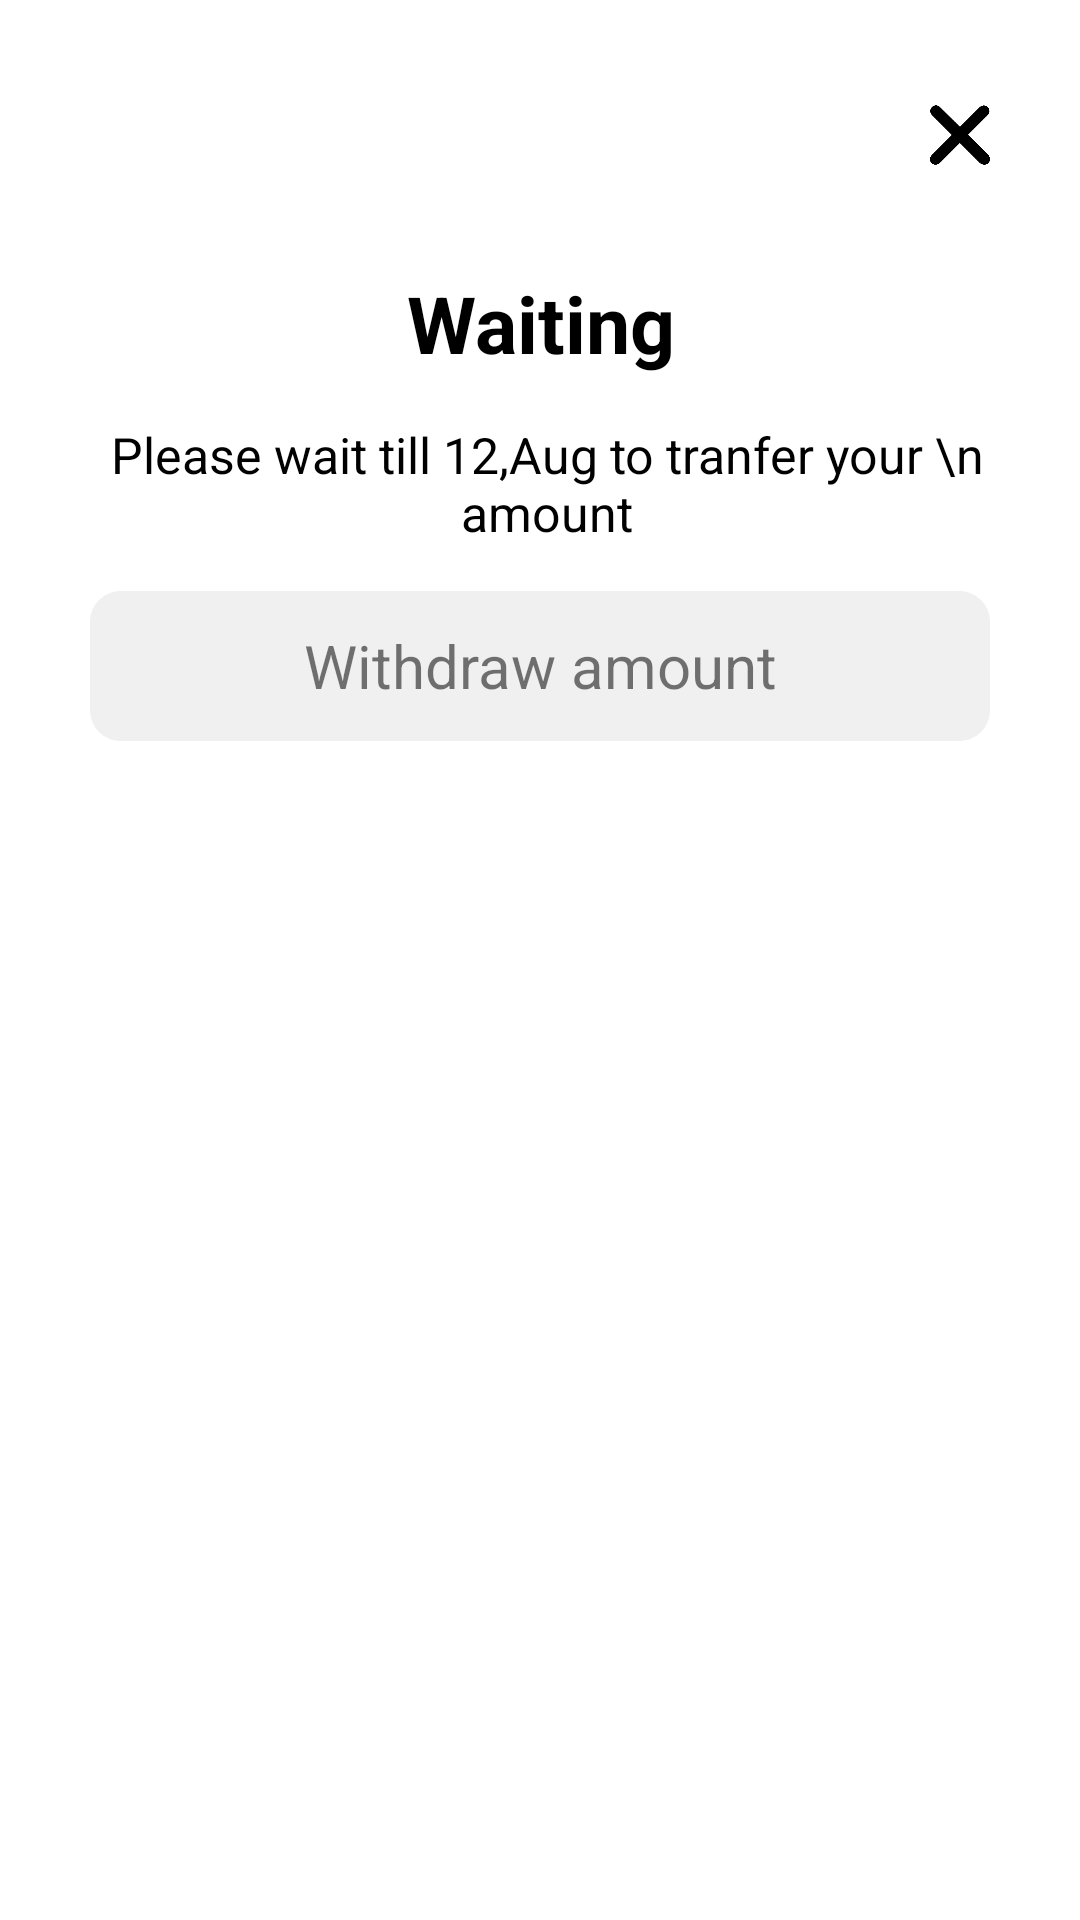

Named icons in this screenshot (1080 × 1920) and their bounding boxes, bbox(x1, y1, x2, y2):
close: bbox(930, 105, 990, 165)
